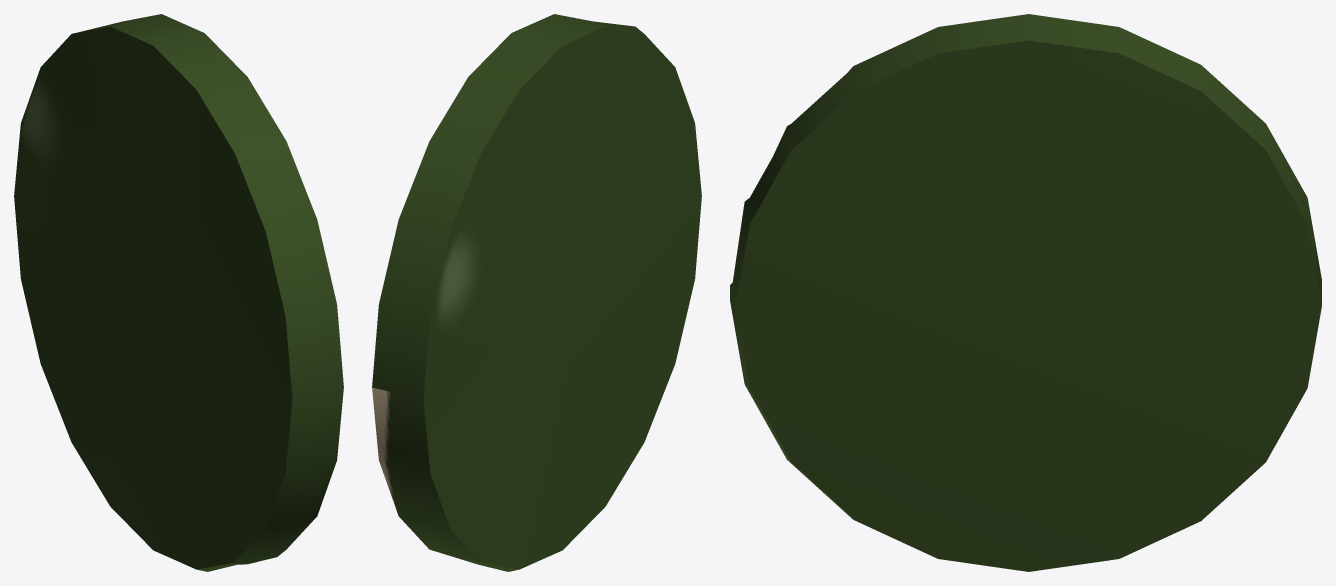
The model's file is pickleslice04.fbx.
3 views of the same model, side by side, from view 1: azimuth 30°, elevation 25°; view 2: azimuth 150°, elevation 25°; view 3: azimuth 270°, elevation 25° (orthographic). The views are drawn at different scales.
Parts seen in each view (by area): view 1: pCylinder77; view 2: pCylinder77; view 3: pCylinder77.
Part boxes in pixels (x1,y1,x2,y2): pCylinder77: (14, 14, 343, 571); pCylinder77: (372, 14, 701, 571); pCylinder77: (730, 14, 1321, 571).
Bounding box in the file's own units: 0.00632 × 0.051 × 0.051.
